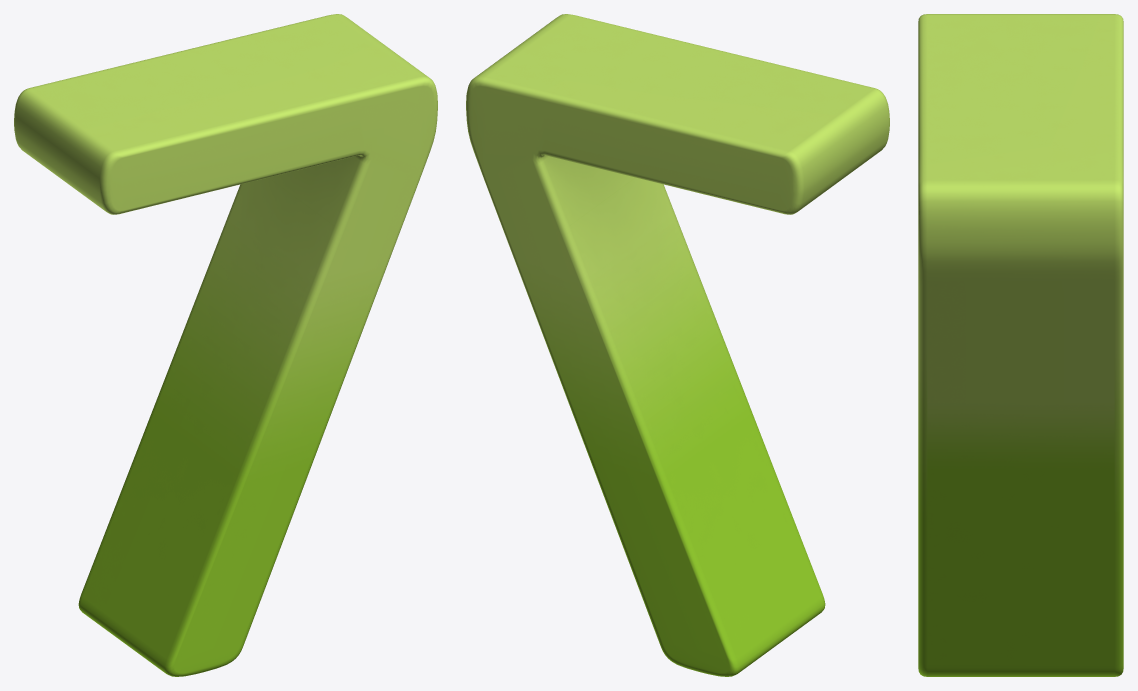
File: seven.glb
3 views of the same model, side by side, from view 1: azimuth 30°, elevation 25°; view 2: azimuth 150°, elevation 25°; view 3: azimuth 270°, elevation 25° (orthographic). The views are drawn at different scales.
Visible parts, largest first — view 1: node_id30; view 2: node_id30; view 3: node_id30.
Part boxes in pixels (box(x1,y1,x2,y2)): node_id30: box(14, 14, 437, 676); node_id30: box(466, 14, 889, 676); node_id30: box(918, 14, 1123, 676).
Bounding box in the file's own units: 0.3335 × 0.512 × 0.1581.
1 material, 1 textured.
